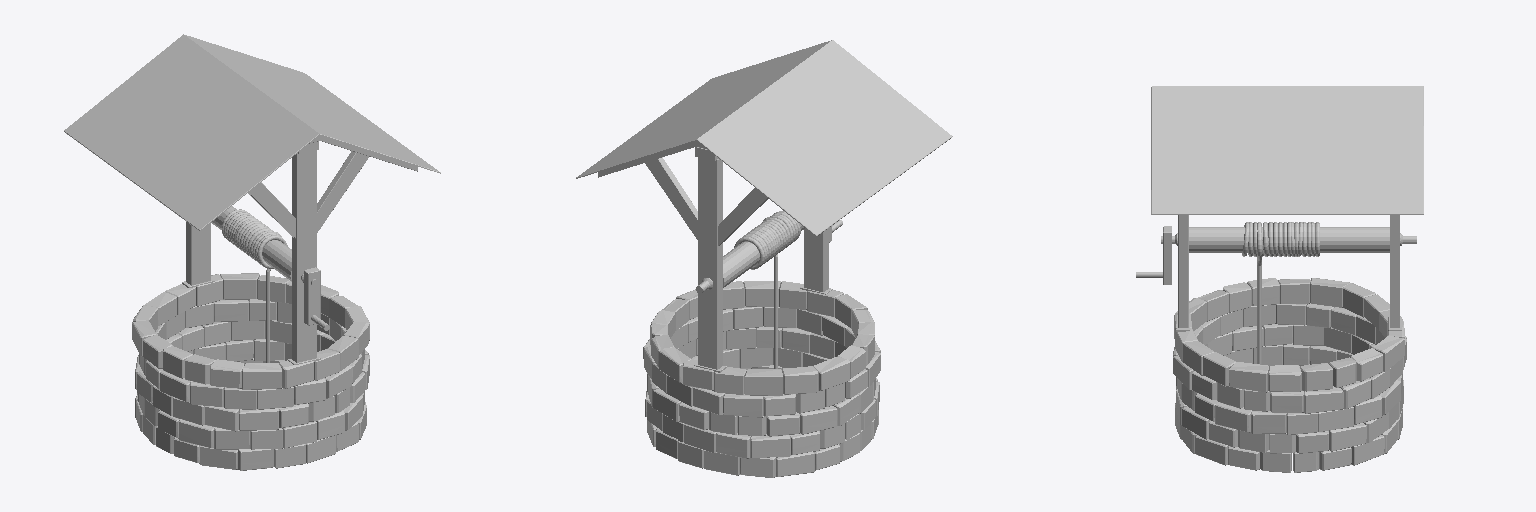
Rendered from Stone well.obj.
3 views of the same model, side by side, from view 1: azimuth 30°, elevation 25°; view 2: azimuth 150°, elevation 25°; view 3: azimuth 270°, elevation 25° (orthographic).
Visible parts, largest first — view 1: Stone_well2; view 2: Stone_well2; view 3: Stone_well2.
Part boxes in pixels (x1,y1,x2,y2): Stone_well2: (64, 34, 440, 470); Stone_well2: (576, 40, 952, 477); Stone_well2: (1136, 86, 1423, 472).
Bounding box in the file's own units: 325 × 436 × 335.